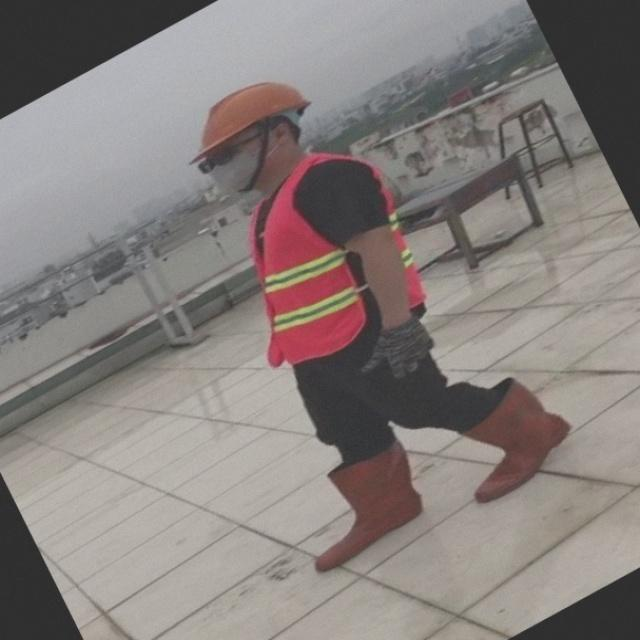helmet: (186, 80, 317, 164)
safety_vest: (247, 146, 429, 374)
